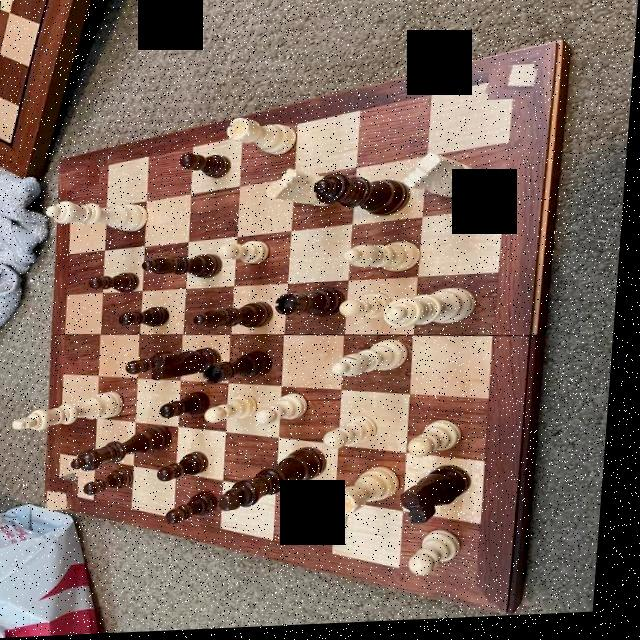chess-table-corners: (448, 567, 510, 609), (487, 67, 536, 107), (59, 158, 102, 192), (51, 476, 86, 511)
